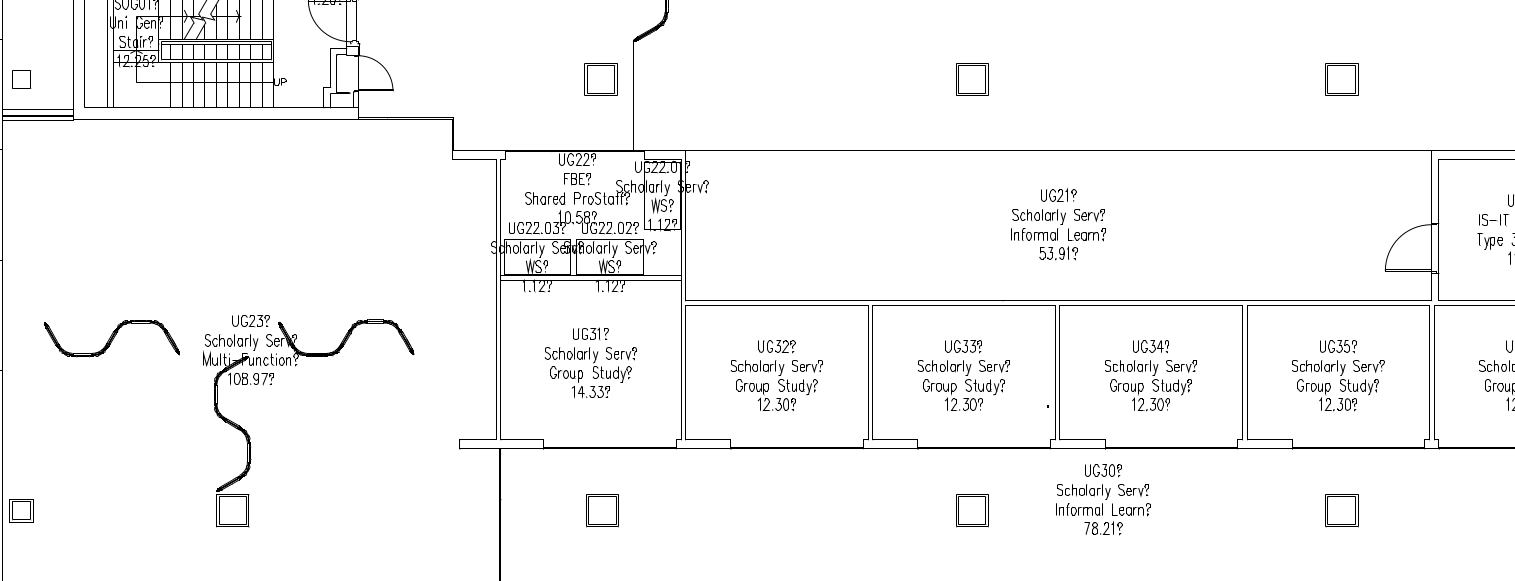door: (1374, 207, 1432, 283), (361, 41, 398, 103), (303, 1, 347, 47)
